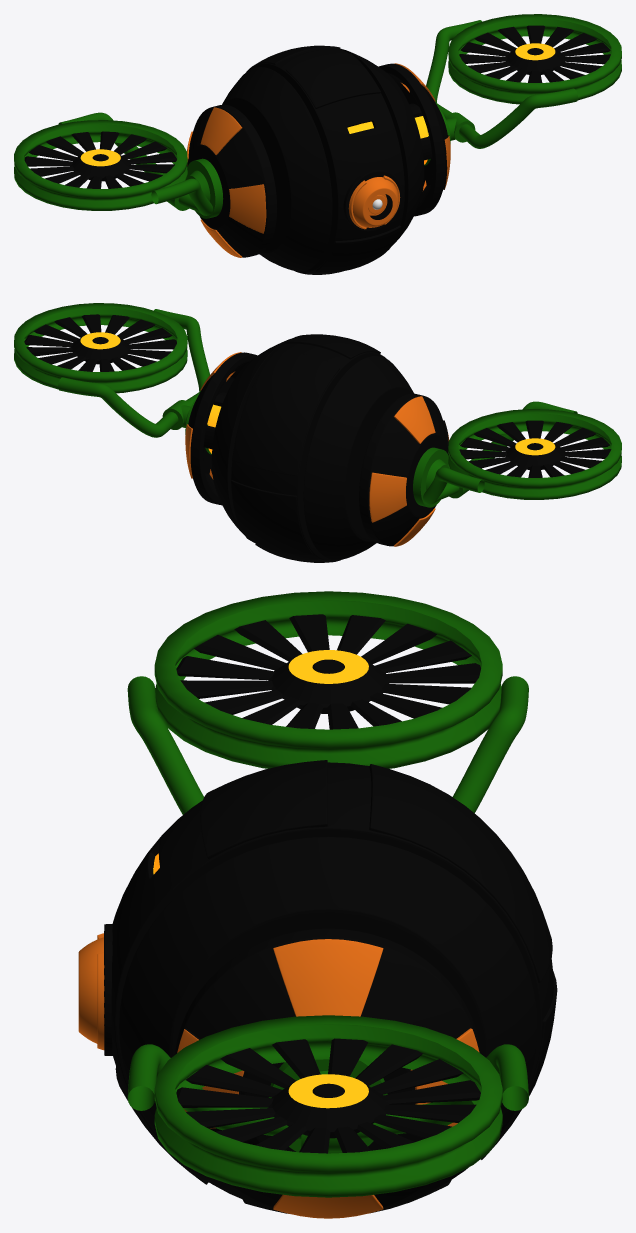
The model's file is Drone.fbx.
The picture shows the model from 3 angles, top to bottom: view 1: azimuth 30°, elevation 25°; view 2: azimuth 150°, elevation 25°; view 3: azimuth 270°, elevation 25°; orthographic projection. The views are drawn at different scales.
Parts seen in each view (by area): view 1: Sphere, Circle.001, Cylinder, BezierCurve, Sphere.001, Circle; view 2: Sphere, Circle.001, Cylinder, BezierCurve, Circle; view 3: Sphere, Circle.001, Cylinder, BezierCurve, Sphere.001, Circle.
Part boxes in pixels (x1,y1,x2,y2): Sphere: (187, 45, 450, 274); Circle.001: (14, 14, 621, 210); Cylinder: (24, 25, 610, 188); BezierCurve: (58, 20, 577, 215); Sphere.001: (343, 169, 402, 231); Circle: (167, 107, 475, 218); Sphere: (185, 334, 449, 562); Circle.001: (14, 303, 621, 499); Cylinder: (24, 314, 611, 477); BezierCurve: (58, 309, 577, 504); Circle: (162, 396, 468, 507); Sphere: (111, 760, 557, 1218); Circle.001: (154, 591, 502, 1197); Cylinder: (176, 614, 480, 1153); BezierCurve: (127, 676, 528, 1139); Sphere.001: (78, 924, 112, 1055); Circle: (268, 1059, 387, 1153).
Size of the model in its own units: 467 by 158 by 165.
